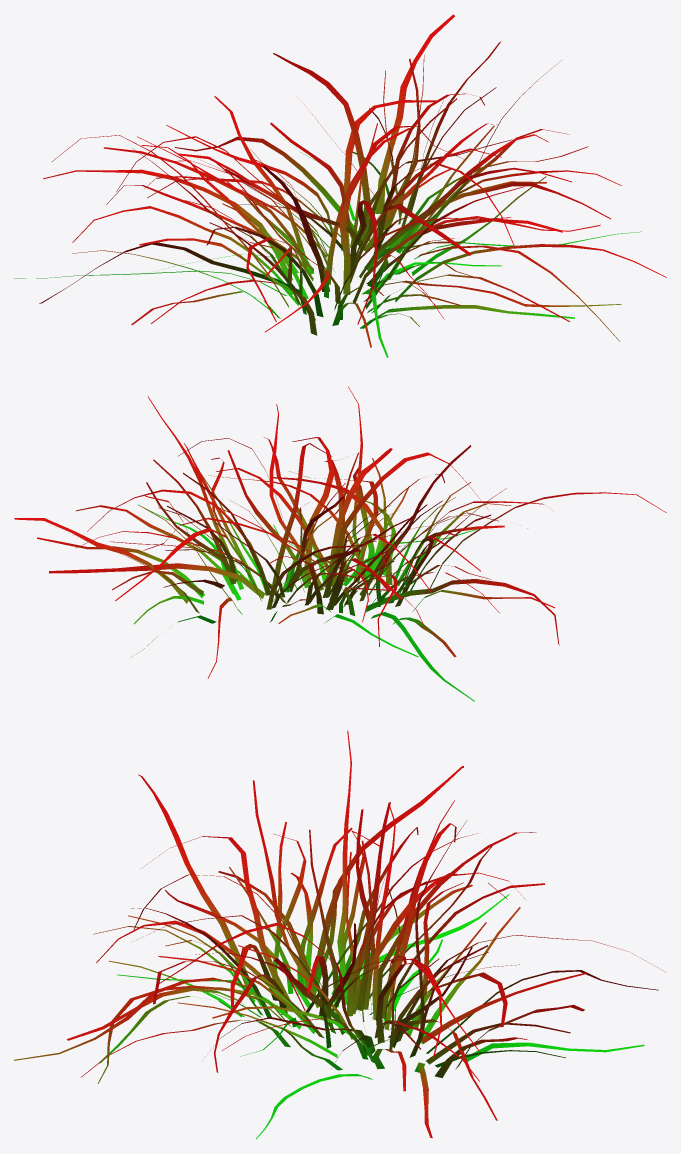
Rendered from Var10_LOD1.fbx.
3 views of the same model, one above another, from view 1: azimuth 30°, elevation 25°; view 2: azimuth 150°, elevation 25°; view 3: azimuth 270°, elevation 25° (orthographic). The views are drawn at different scales.
Visible parts, largest first — view 1: _npoy_Var10_LOD1; view 2: _npoy_Var10_LOD1; view 3: _npoy_Var10_LOD1.
Part boxes in pixels (x1,y1,x2,y2): _npoy_Var10_LOD1: (14,14,666,357); _npoy_Var10_LOD1: (14,386,666,701); _npoy_Var10_LOD1: (14,730,666,1139).
Size of the model in its own units: 27.09 by 8.65 by 25.42.
